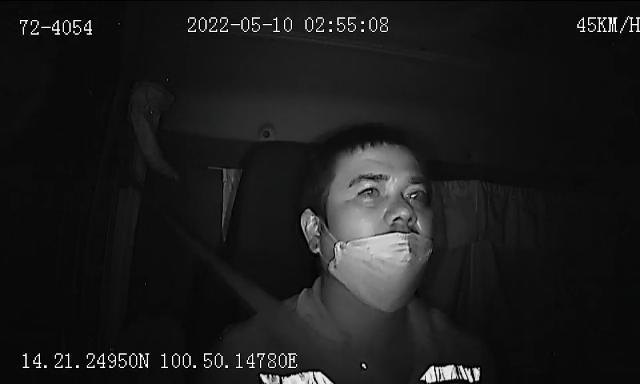SafeDriving: (351, 178, 387, 204), (398, 181, 429, 206)
Seatbelt: (195, 228, 305, 354)
